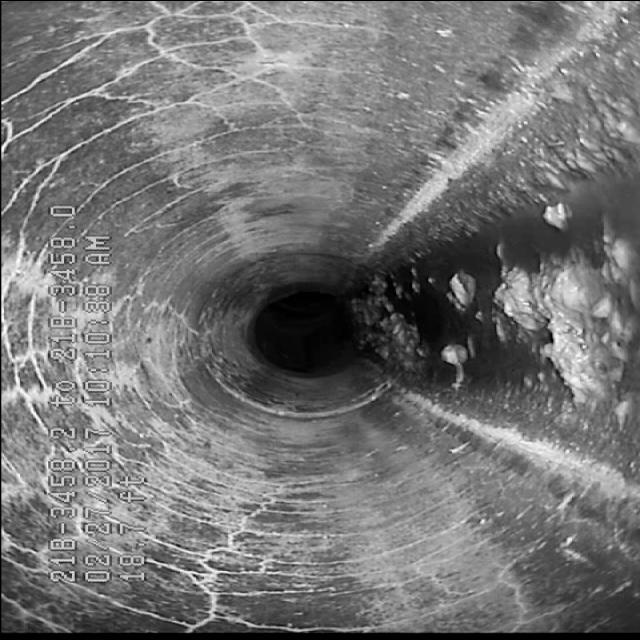Crack: (26, 23, 296, 190)
